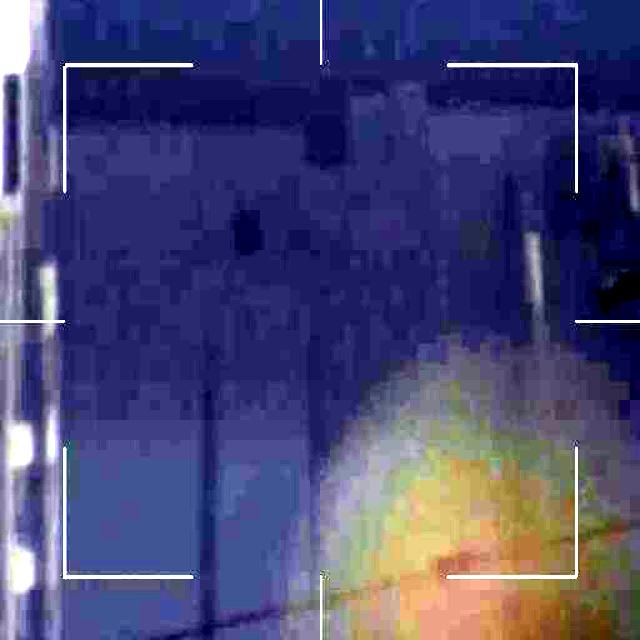bird: (594, 270, 640, 320)
